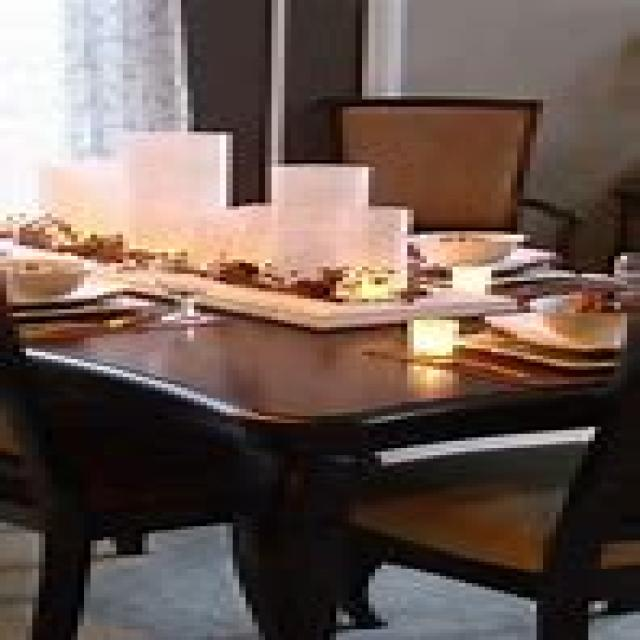table: (0, 234, 634, 636)
